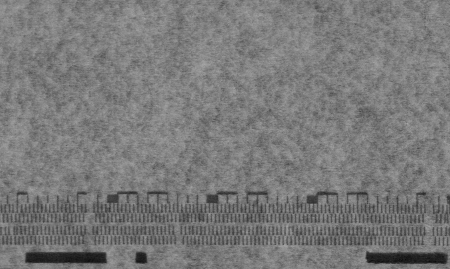Broken hole: (172, 224, 186, 247)
